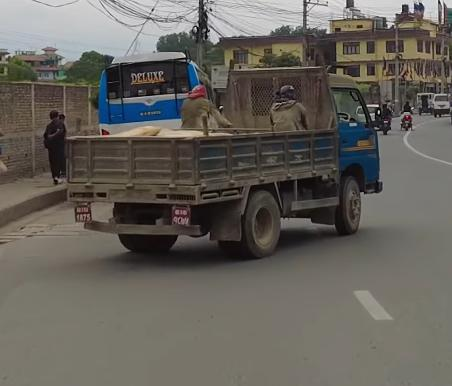bike: (378, 93, 393, 139)
bus: (97, 39, 214, 139)
car: (425, 80, 452, 119)
mini_truck: (53, 58, 389, 260)
scooter: (401, 92, 416, 134)
